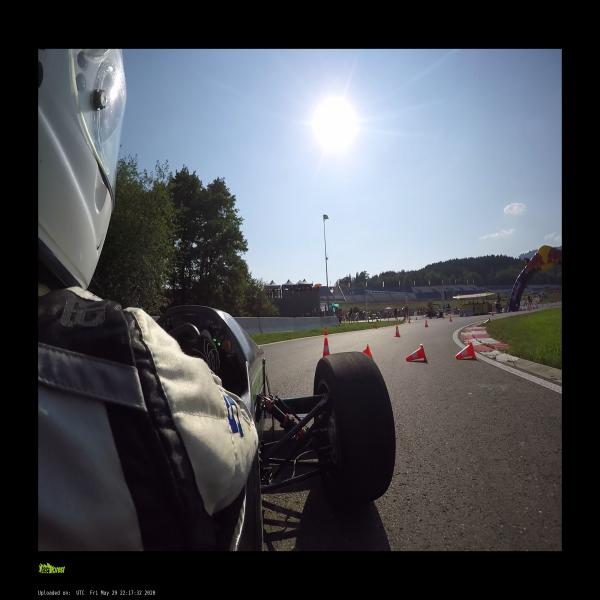orange_cone: (405, 343, 429, 363), (455, 340, 477, 360), (360, 345, 374, 361), (320, 338, 330, 355), (395, 326, 401, 336), (324, 327, 328, 335), (424, 320, 428, 327), (375, 322, 377, 328), (450, 316, 452, 321), (464, 313, 466, 317), (492, 311, 493, 316)
